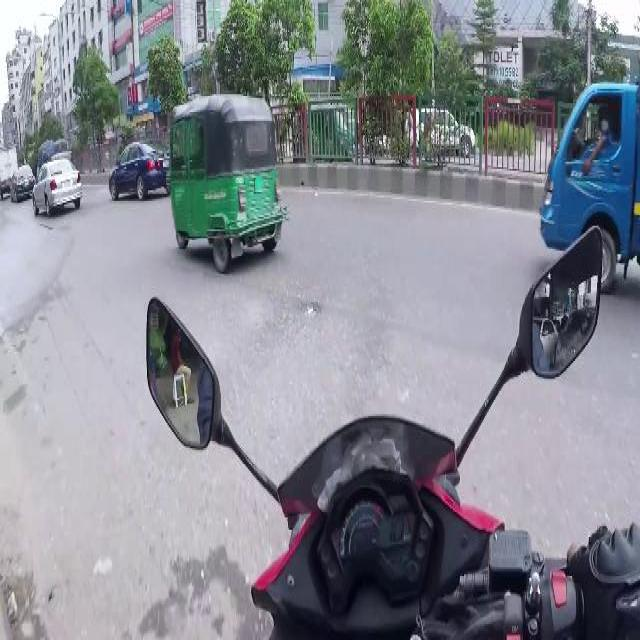car: (404, 101, 476, 160), (105, 139, 171, 199), (31, 160, 83, 212), (10, 164, 34, 199)
motorcycle: (138, 292, 634, 638), (170, 96, 288, 268), (295, 103, 352, 164)
truck: (536, 80, 639, 284), (0, 140, 21, 196)
